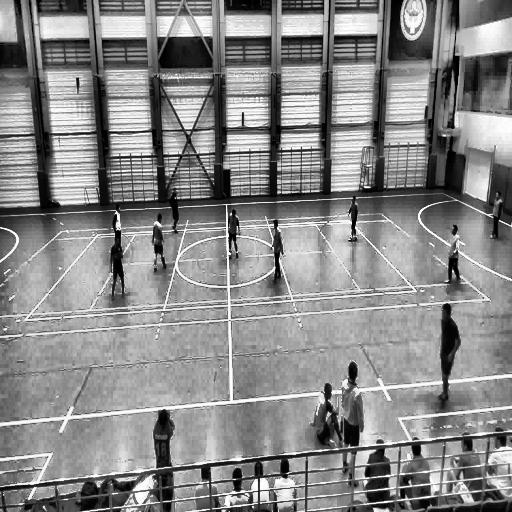ball: (226, 251, 234, 261)
player: (339, 361, 364, 487), (436, 303, 460, 409), (153, 409, 175, 506), (111, 232, 126, 299), (152, 213, 168, 272), (271, 218, 284, 284), (446, 225, 460, 285), (489, 191, 503, 240), (227, 207, 240, 259), (111, 202, 123, 250), (347, 193, 358, 242), (170, 188, 180, 233)
